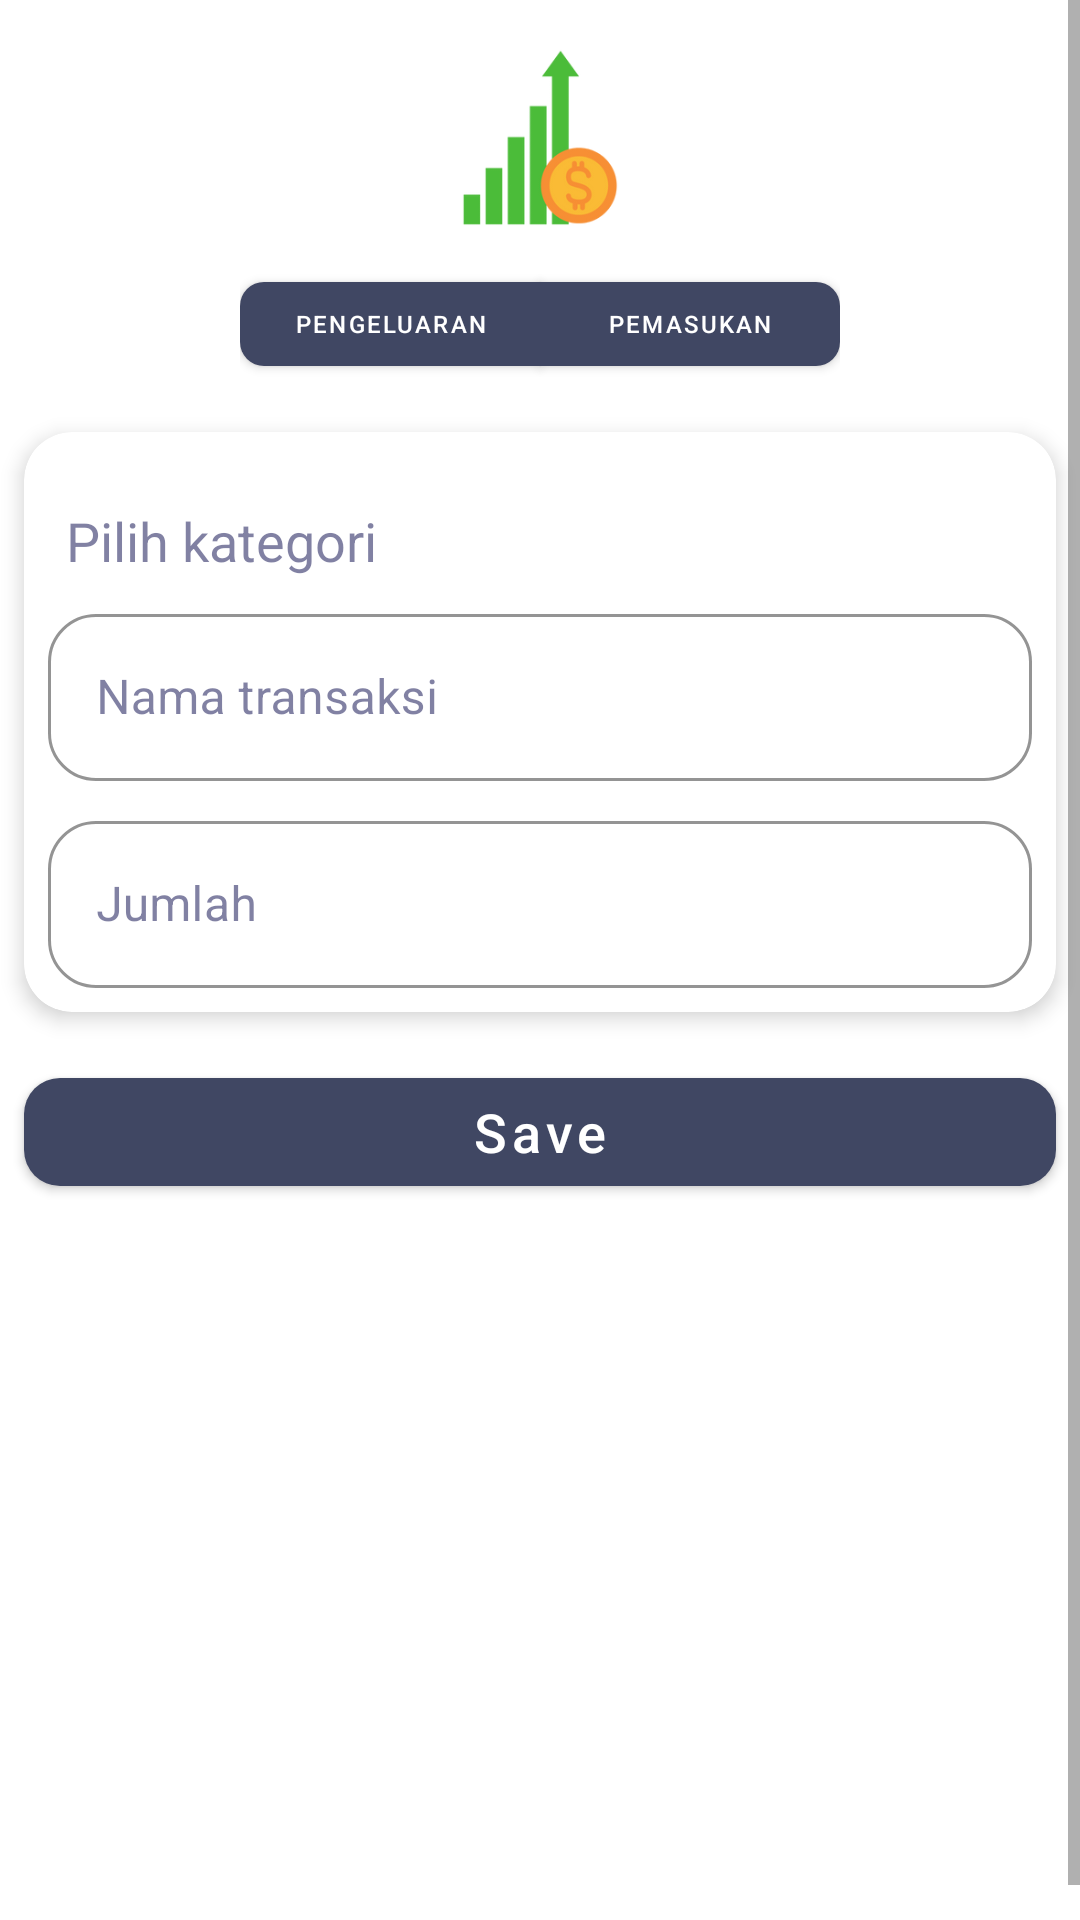

Where icons sit on this 1080 x 1920 app screen, as region(x1, y1, x2, y2):
income: region(463, 51, 617, 225)
